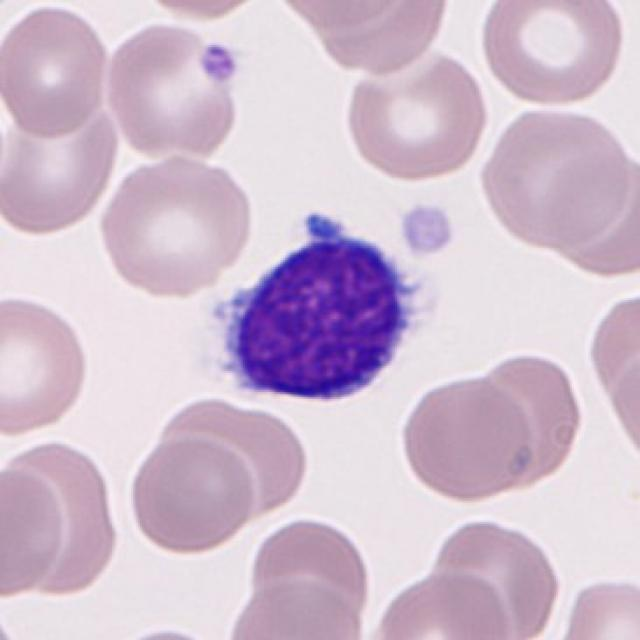Lymphocyte: (185, 206, 446, 420)
Platelets: (395, 200, 460, 260), (196, 40, 243, 87)
RBC: (0, 432, 140, 640), (474, 101, 636, 252), (96, 151, 257, 298), (144, 391, 310, 528), (340, 45, 492, 184), (101, 18, 245, 162), (393, 373, 537, 505), (0, 92, 121, 236), (474, 0, 629, 108), (425, 517, 563, 638), (242, 509, 375, 632), (0, 2, 112, 144), (126, 434, 257, 555), (476, 345, 582, 484), (0, 290, 93, 439), (253, 0, 453, 68), (371, 565, 516, 640), (0, 463, 70, 600), (224, 576, 367, 640), (552, 570, 638, 640), (269, 0, 406, 35), (125, 0, 274, 24), (101, 621, 236, 640)
